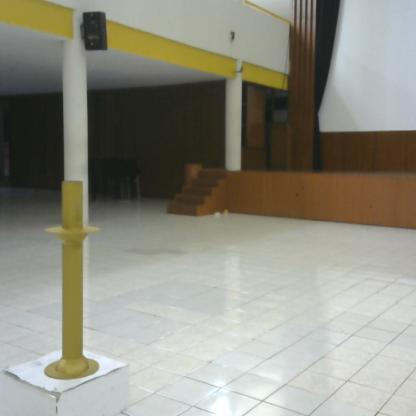pole: (37, 174, 107, 386)
